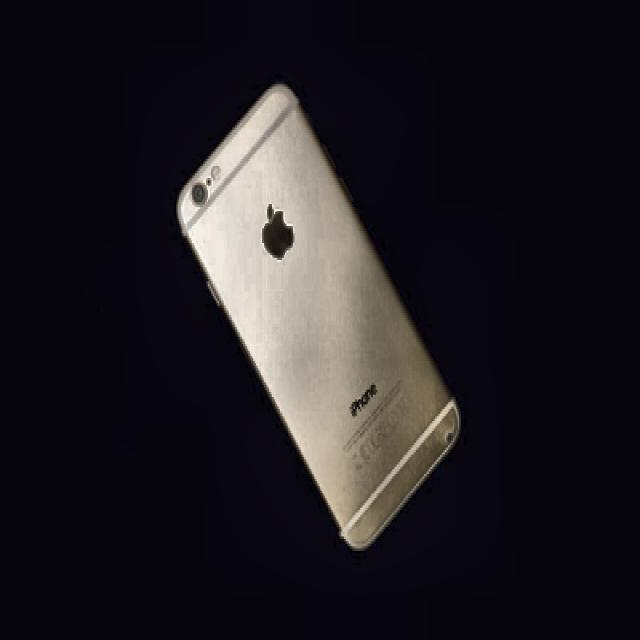Phone: (174, 84, 460, 554)
